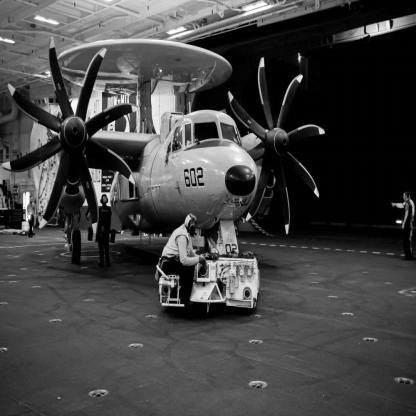E2: (3, 37, 327, 265)
